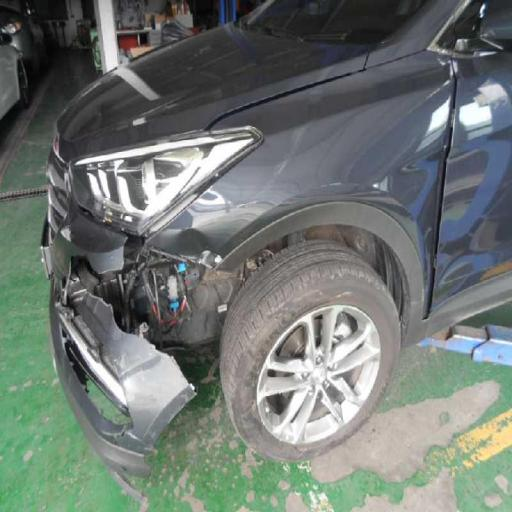broken: (53, 137, 378, 427)
